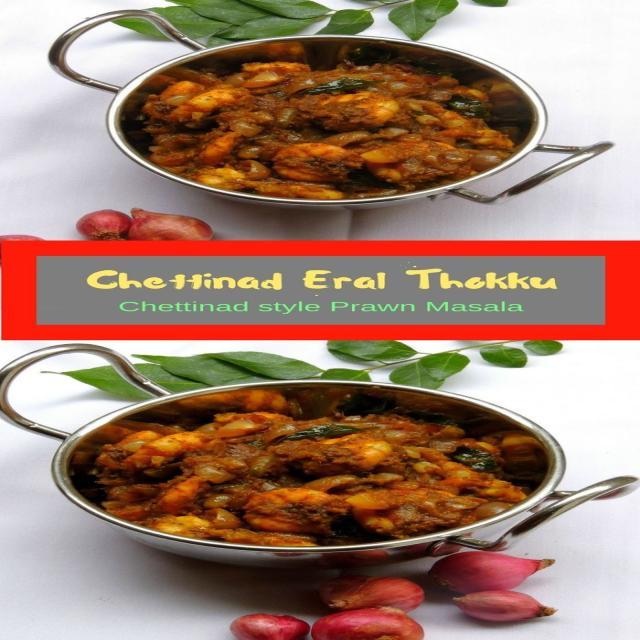prawn thokku: (77, 373, 546, 547)
